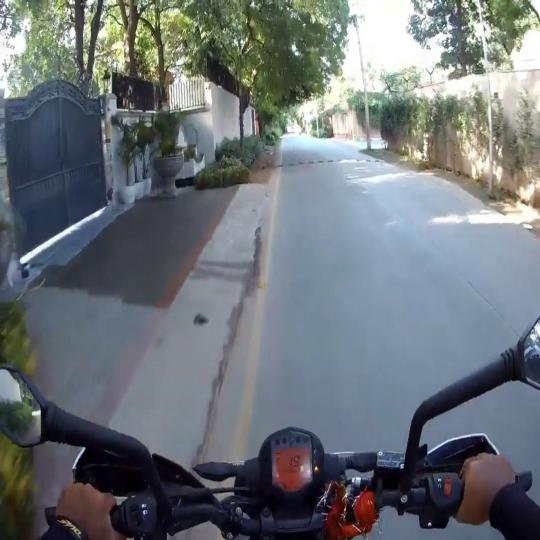Speed Bump: (272, 157, 386, 169)
